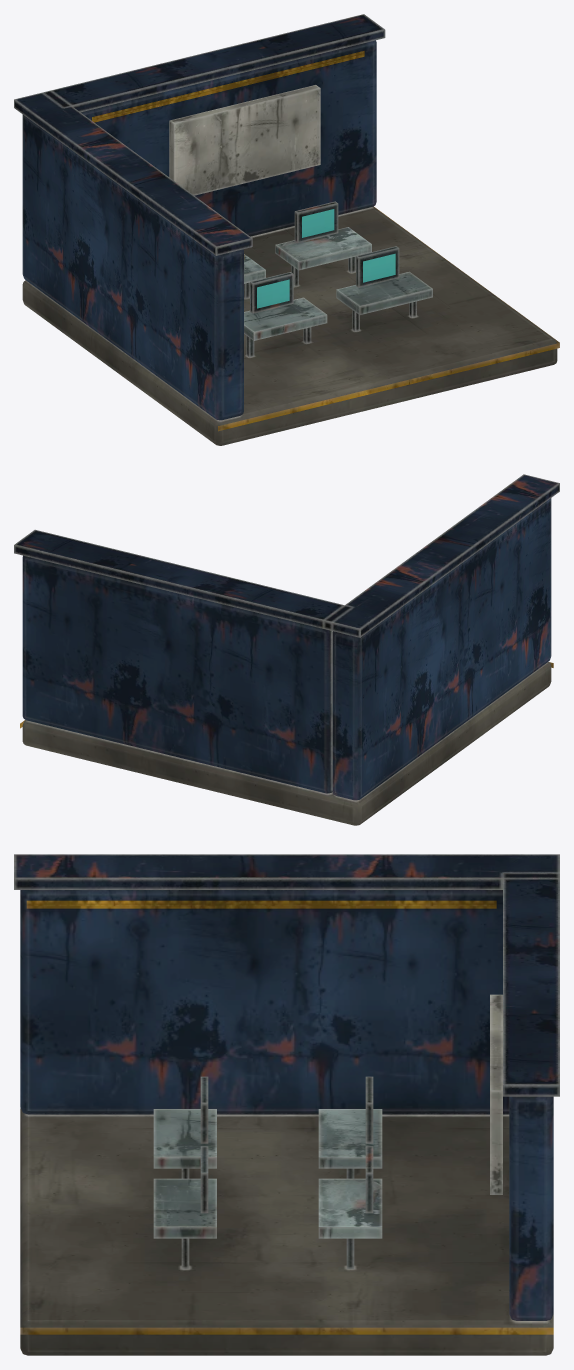
File: basic_school.glb
The picture shows the model from 3 angles, top to bottom: view 1: azimuth 30°, elevation 25°; view 2: azimuth 150°, elevation 25°; view 3: azimuth 270°, elevation 25°; orthographic projection. The views are drawn at different scales.
Visible parts, largest first — view 1: te_basic_school; view 2: te_basic_school; view 3: te_basic_school.
Part boxes in pixels (x1,y1,x2,y2): te_basic_school: [14, 14, 559, 445]; te_basic_school: [14, 474, 559, 825]; te_basic_school: [14, 854, 559, 1355].
Size of the model in its own units: 0.86 by 0.48 by 0.86.
Materials: 1 (1 with a texture image).
